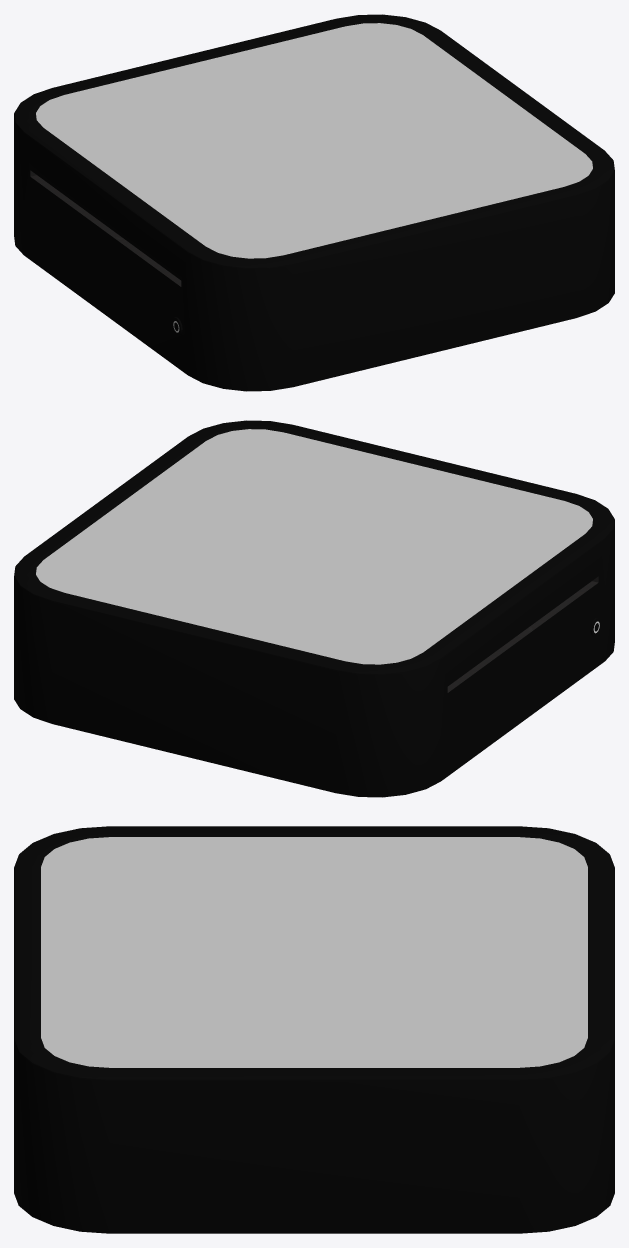
Rendered from Office_-_Computer_1.001.gltf.
3 views of the same model, one above another, from view 1: azimuth 30°, elevation 25°; view 2: azimuth 150°, elevation 25°; view 3: azimuth 270°, elevation 25° (orthographic). The views are drawn at different scales.
Visible parts, largest first — view 1: Office - Computer 1_mesh; view 2: Office - Computer 1_mesh; view 3: Office - Computer 1_mesh.
Boxes of the visible parts, x1,y1,x2,y2 form: Office - Computer 1_mesh: (14,14,614,391); Office - Computer 1_mesh: (14,420,614,797); Office - Computer 1_mesh: (14,826,614,1233).
Size of what is drawn, in the model's own units: 0.2958 by 0.0835 by 0.2947.
